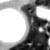node: (1, 6, 28, 44), (35, 5, 50, 22), (37, 26, 45, 33)
